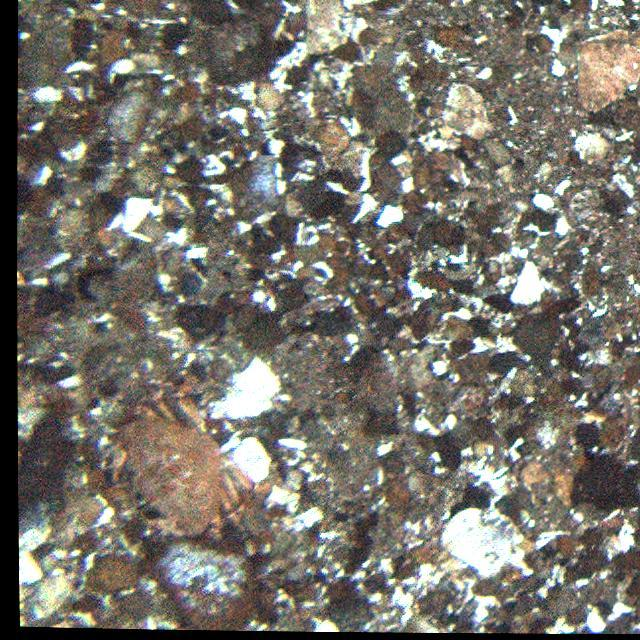crab: (108, 385, 254, 539)
